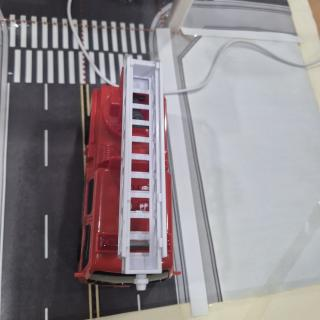Fire_truck: (75, 54, 181, 290)
